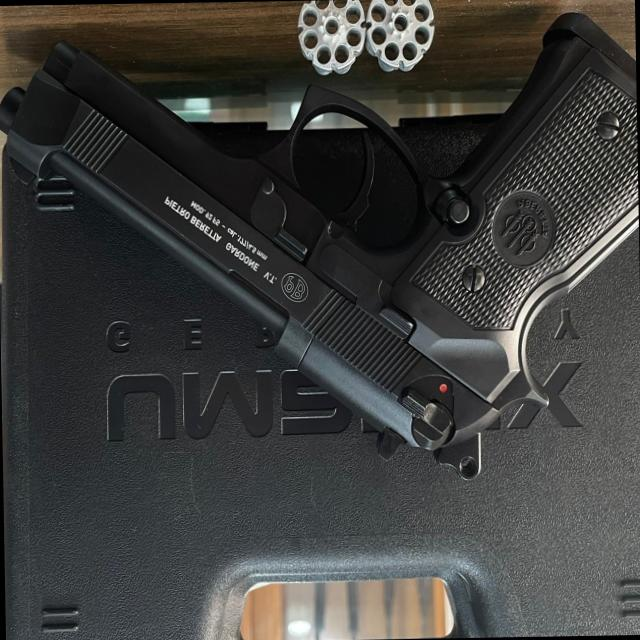Gun: (3, 0, 640, 408)
